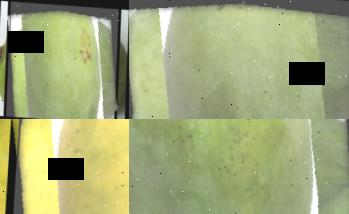PartiallyRipe: (8, 119, 129, 214)
Unripe: (129, 0, 349, 119), (129, 119, 349, 214), (6, 0, 119, 119)
